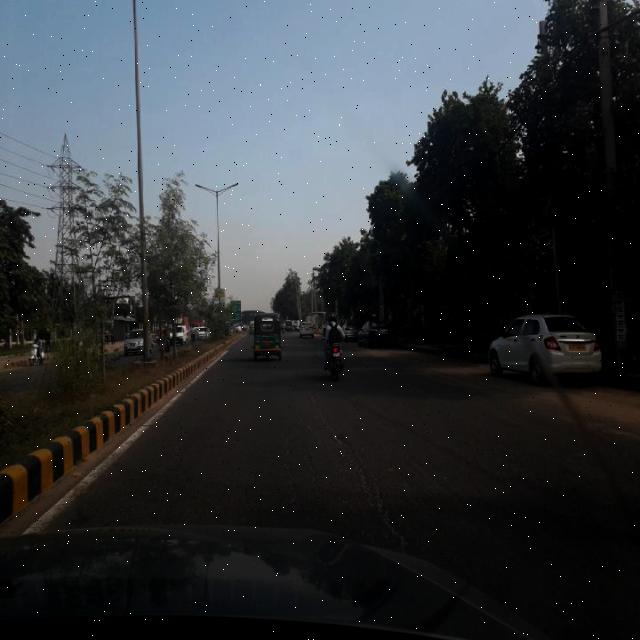D00: (318, 385, 412, 547), (279, 416, 309, 522)
